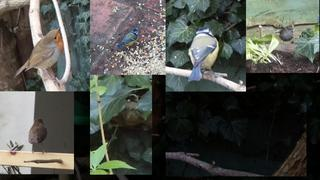blue tit: (187, 27, 219, 81), (117, 27, 139, 48)
robin: (12, 27, 63, 82), (28, 118, 47, 155)
sparrow: (275, 27, 293, 44)
